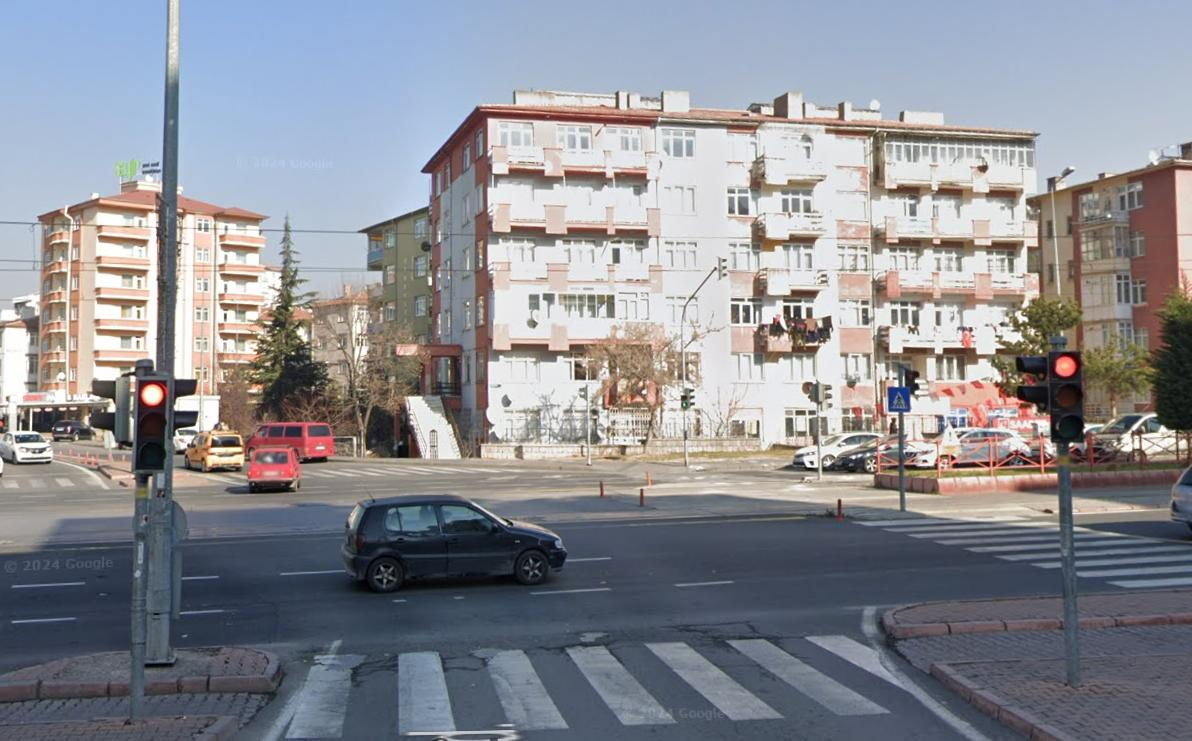redlight: (133, 374, 171, 475), (1048, 350, 1087, 444)
